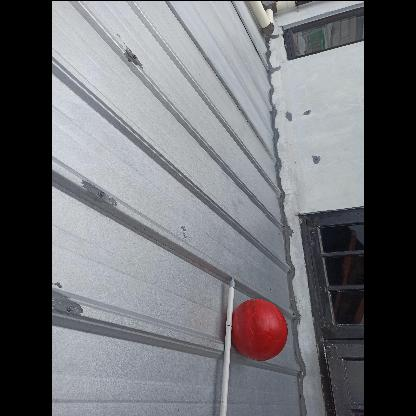red_ball: (230, 299, 288, 357)
